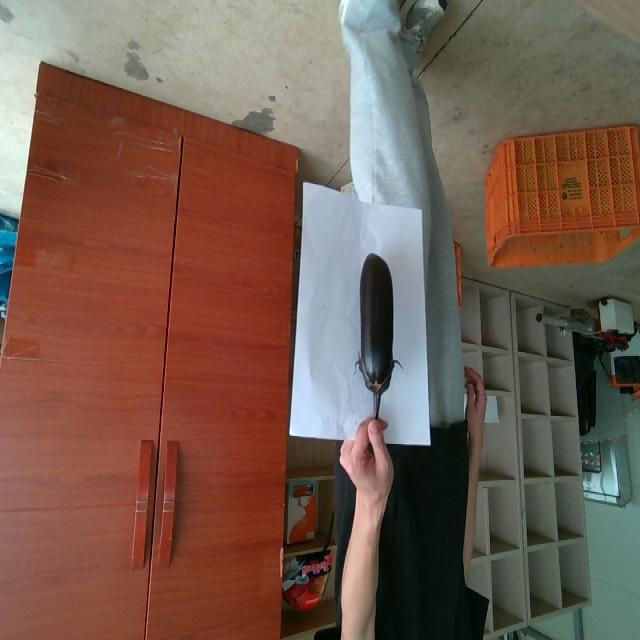Egg plant: (356, 255, 397, 419)
